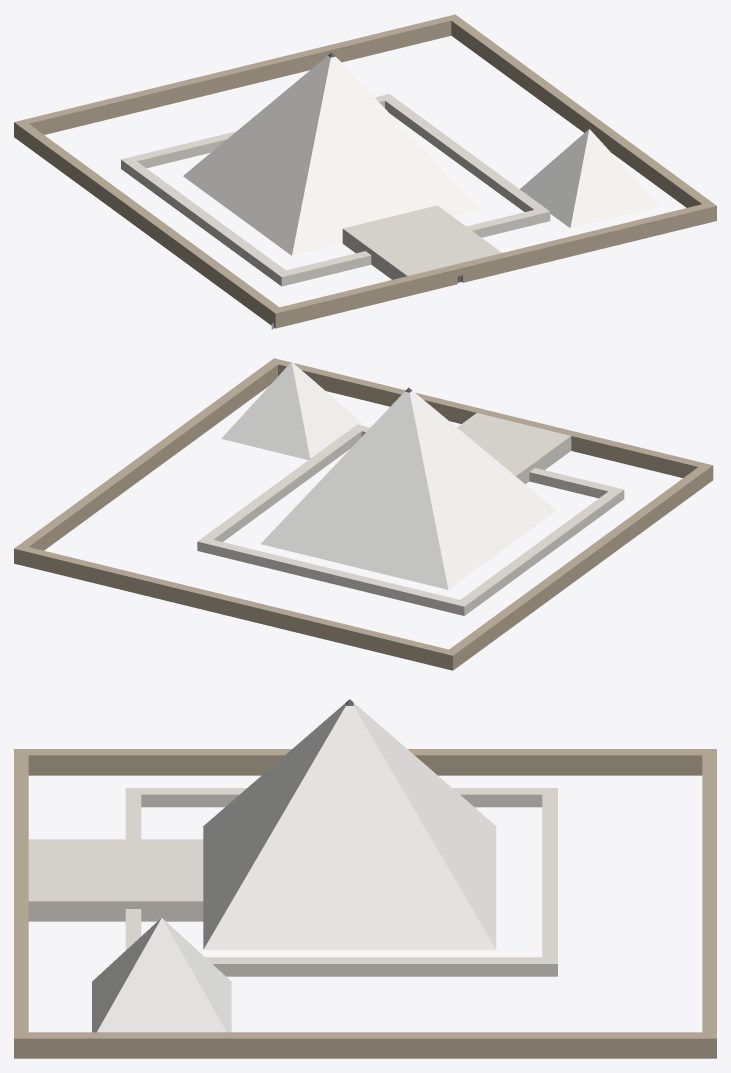
File: Khendjer_Pyramid.glb
3 renders of one model, top to bottom at view 1: azimuth 30°, elevation 25°; view 2: azimuth 150°, elevation 25°; view 3: azimuth 270°, elevation 25°, orthographic. The views are drawn at different scales.
Visible parts, largest first — view 1: Mesh1 Model, Mesh2 Model; view 2: Mesh1 Model, Mesh2 Model; view 3: Mesh1 Model, Mesh2 Model.
Part boxes in pixels (x1,y1,x2,y2): Mesh1 Model: [14, 14, 716, 328]; Mesh2 Model: [520, 129, 659, 228]; Mesh1 Model: [14, 358, 713, 670]; Mesh2 Model: [221, 361, 361, 459]; Mesh1 Model: [14, 699, 716, 1058]; Mesh2 Model: [92, 918, 231, 1032].
Bounding box in the file's own units: 124 × 37.35 × 126.
